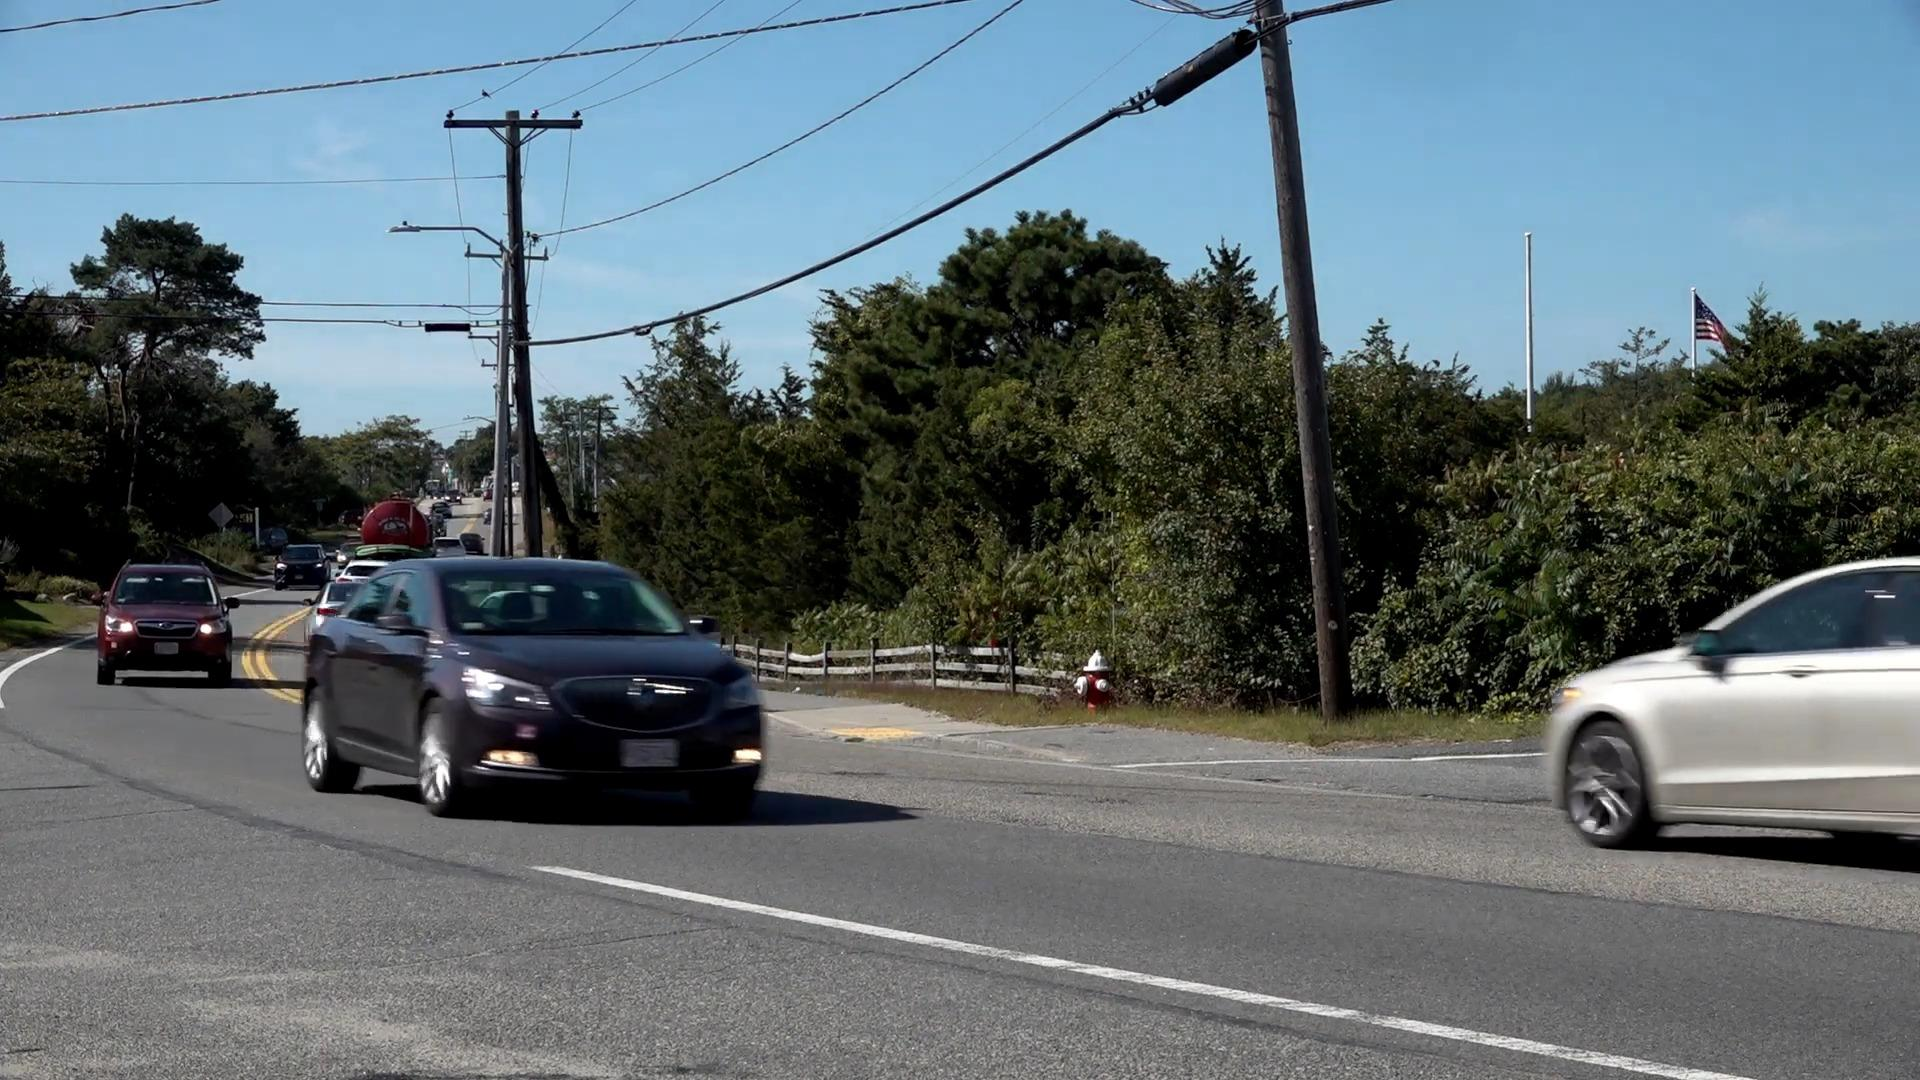sedans: (302, 556, 769, 818), (1547, 551, 1920, 847)
suv: (94, 564, 239, 687)
